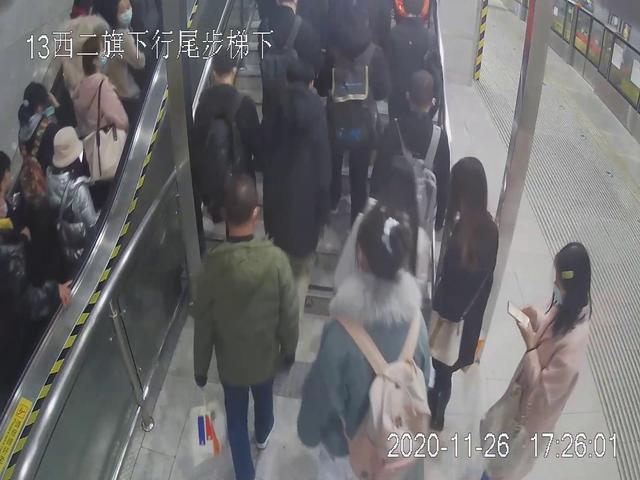person: (180, 172, 316, 480), (312, 207, 450, 472), (484, 241, 593, 480), (427, 152, 505, 435), (179, 46, 263, 240), (256, 60, 338, 254), (374, 68, 455, 257), (318, 13, 384, 231), (39, 127, 103, 282), (68, 38, 130, 181)
